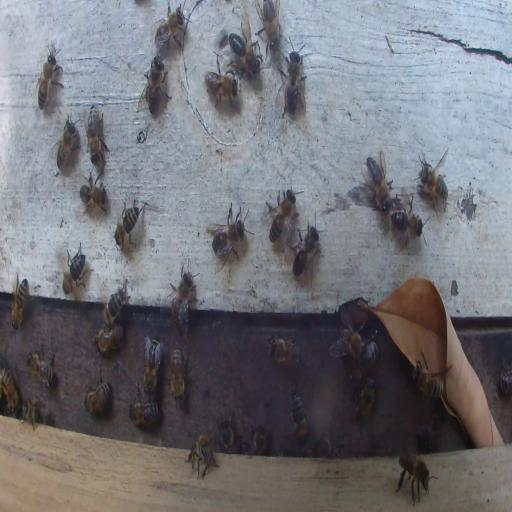bee: (208, 202, 254, 261), (167, 256, 199, 333), (279, 35, 307, 122), (136, 54, 172, 116), (391, 189, 426, 251), (416, 149, 449, 213), (264, 186, 300, 244), (396, 452, 433, 505), (152, 4, 192, 51), (35, 47, 64, 111), (363, 150, 392, 212), (290, 224, 321, 280), (226, 23, 259, 75), (52, 114, 80, 173), (186, 431, 219, 479), (113, 204, 143, 252), (203, 68, 239, 107), (62, 243, 89, 295), (85, 105, 106, 166), (268, 331, 301, 369), (102, 282, 129, 328), (346, 342, 378, 380), (331, 326, 366, 360), (84, 376, 112, 416), (413, 364, 445, 399), (416, 410, 444, 450), (143, 336, 161, 394), (26, 352, 55, 388), (79, 176, 107, 213), (256, 2, 280, 44), (10, 275, 28, 330), (290, 390, 308, 445), (354, 378, 376, 421), (170, 346, 186, 405), (1, 366, 19, 415), (130, 399, 159, 429), (94, 322, 123, 352), (18, 399, 44, 429), (218, 417, 235, 452), (319, 436, 347, 457), (249, 427, 268, 455), (500, 360, 512, 397)
